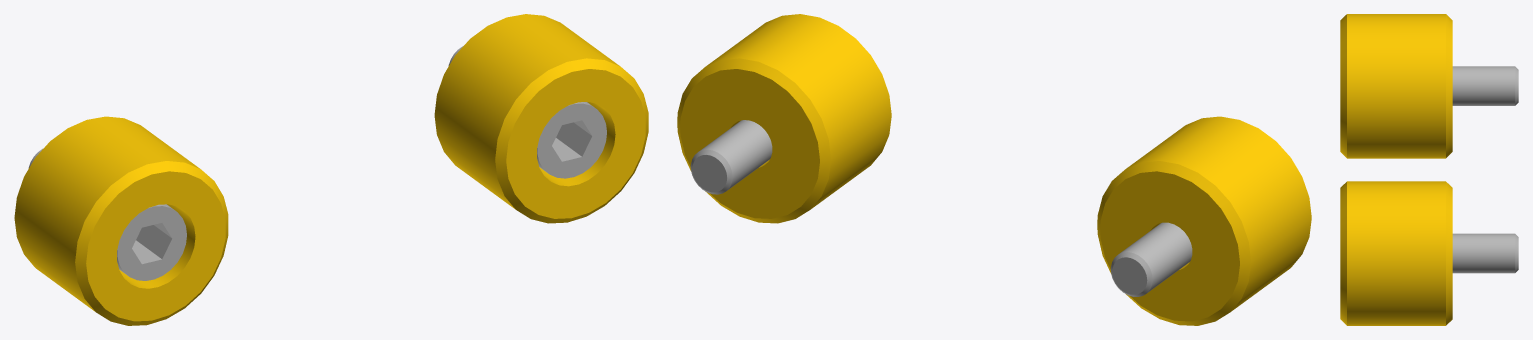
File: stop.glb
3 renders of one model, left to right at view 1: azimuth 30°, elevation 25°; view 2: azimuth 150°, elevation 25°; view 3: azimuth 270°, elevation 25°, orthographic. The views are drawn at different scales.
Parts seen in each view (by area): view 1: Button_Z56_068 (×2), Button_shcs_z56_067 (×2); view 2: Button_Z56_068 (×2), Button_shcs_z56_067 (×2); view 3: Button_Z56_068 (×2), Button_shcs_z56_067 (×2).
Part boxes in pixels (bbox=[...]): Button_Z56_068 (×2): bbox=[14, 14, 648, 325]; Button_shcs_z56_067 (×2): bbox=[28, 46, 606, 280]; Button_Z56_068 (×2): bbox=[677, 14, 1311, 325]; Button_shcs_z56_067 (×2): bbox=[690, 120, 1192, 296]; Button_Z56_068 (×2): bbox=[1340, 14, 1452, 325]; Button_shcs_z56_067 (×2): bbox=[1452, 66, 1518, 273].
Bounding box in the file's own units: 0.082 × 0.022 × 0.027.
